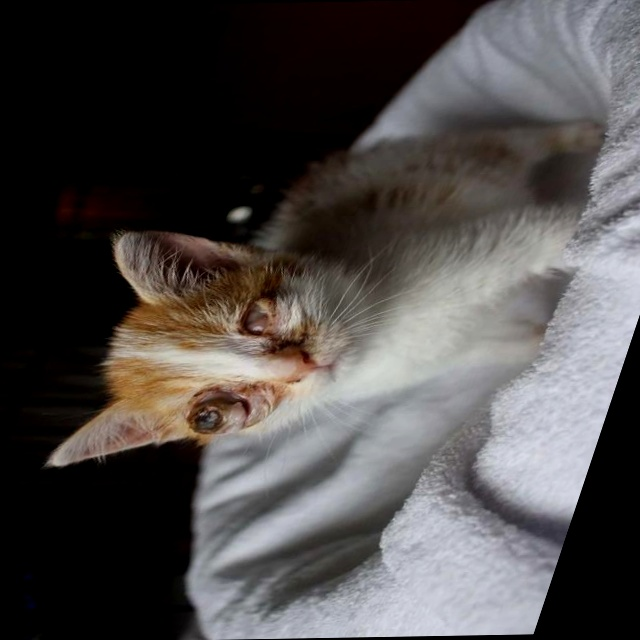eye_infection: (190, 388, 249, 434), (235, 296, 288, 336)
